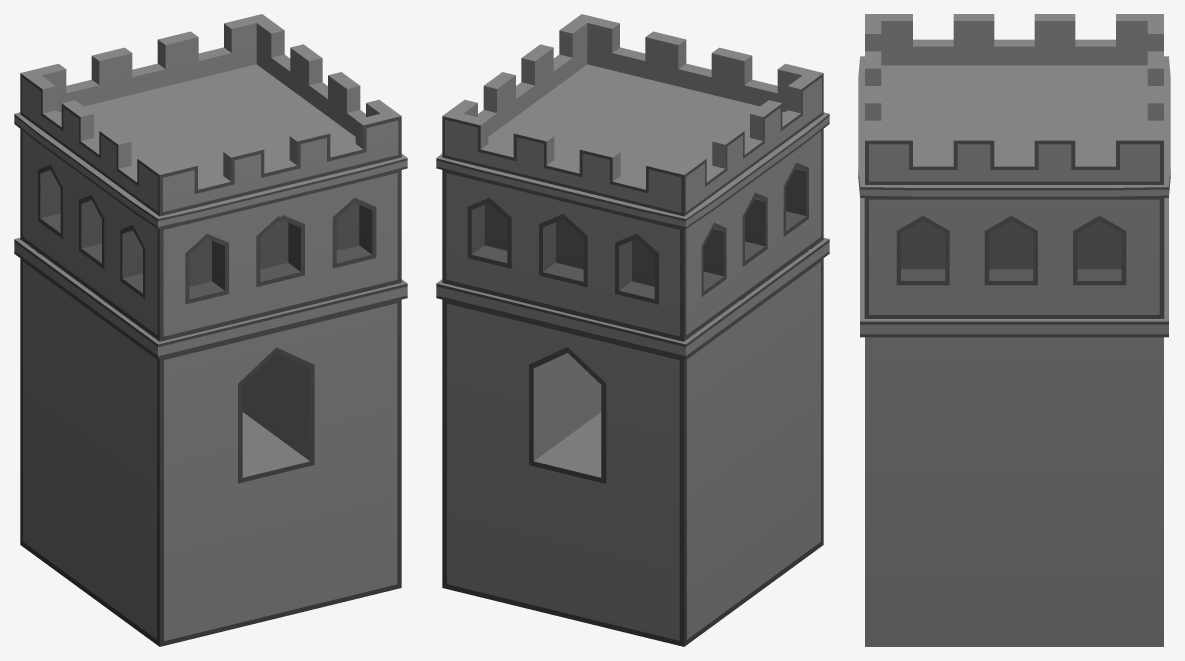
The model's file is tower.fbx.
3 views of the same model, side by side, from view 1: azimuth 30°, elevation 25°; view 2: azimuth 150°, elevation 25°; view 3: azimuth 270°, elevation 25° (orthographic). The views are drawn at different scales.
Parts seen in each view (by area): view 1: Cube.350; view 2: Cube.350; view 3: Cube.350.
Boxes of the visible parts, box(x1,y1,x2,y2) form: Cube.350: box(14, 14, 407, 646); Cube.350: box(436, 14, 829, 646); Cube.350: box(858, 14, 1170, 646).
Size of the model in its own units: 8.04 by 14.34 by 8.03.
Materials: 1 (1 with a texture image).
